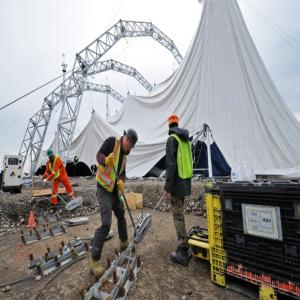blue: (122, 127, 140, 154), (47, 149, 55, 162)
yellow: (168, 113, 180, 133)
